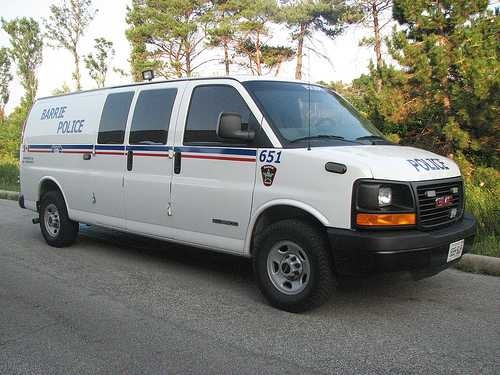Police Van: (19, 54, 467, 322)
